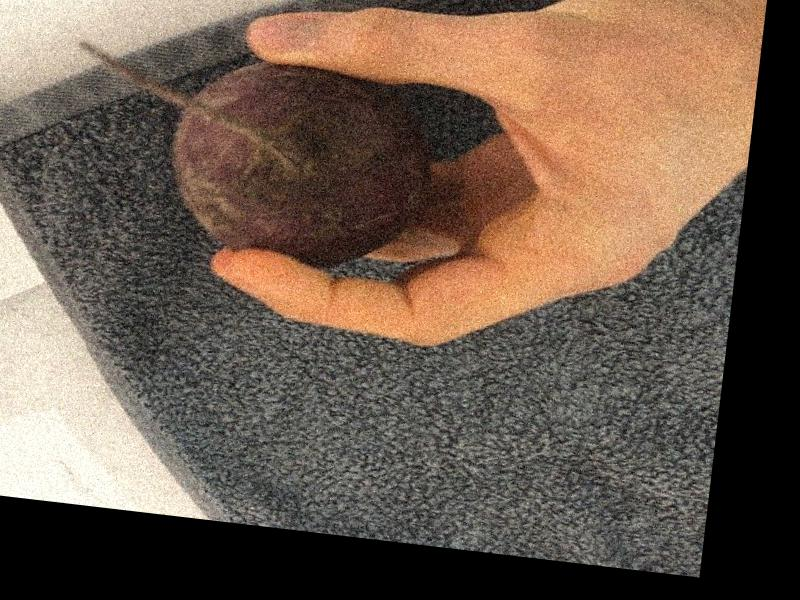Beet: (55, 38, 439, 278)
